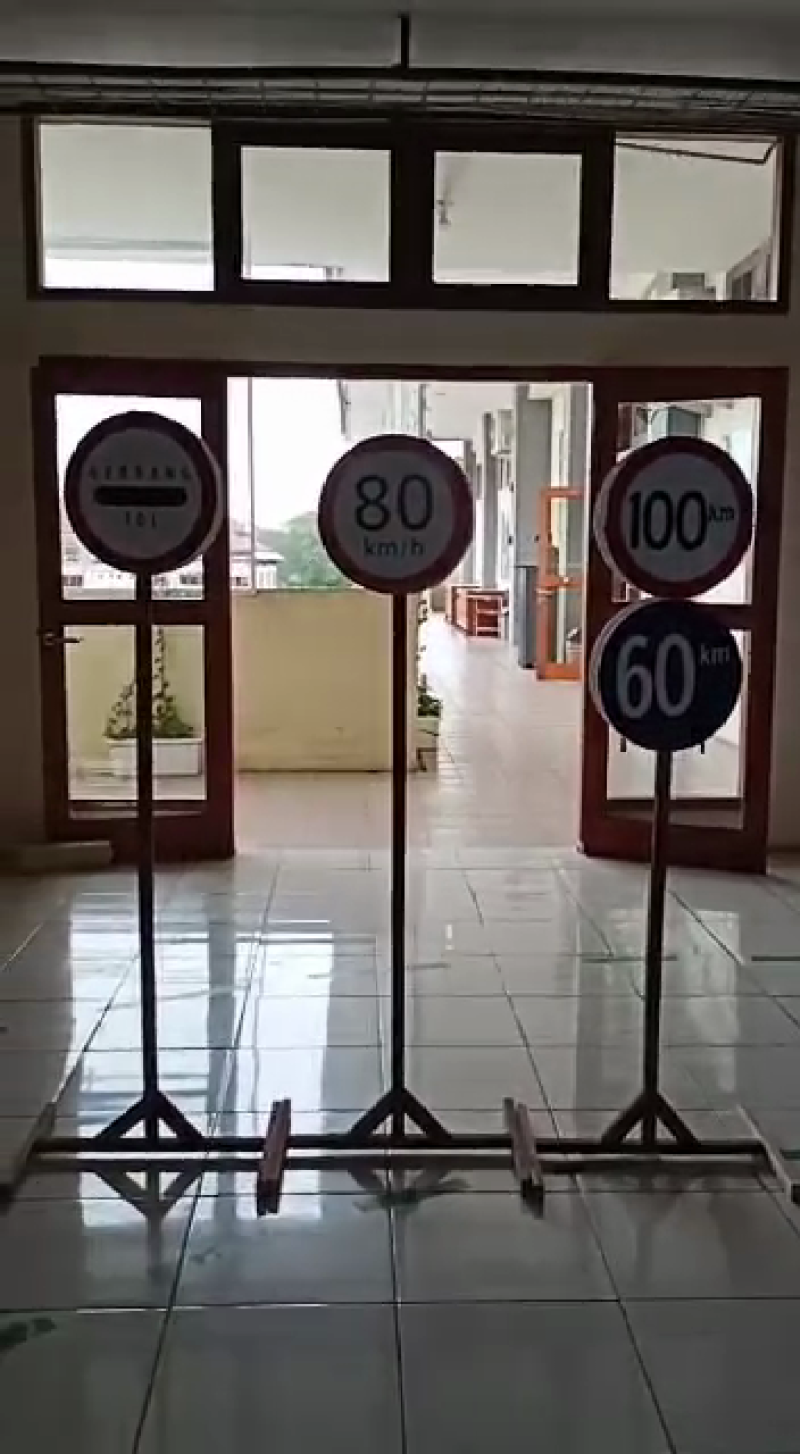batas maksimal 100kmperjam minimal 60kmperjam: (583, 420, 755, 761)
batas maksimal 80kmperjam: (320, 431, 485, 590)
gerbang tol: (68, 405, 237, 574)
